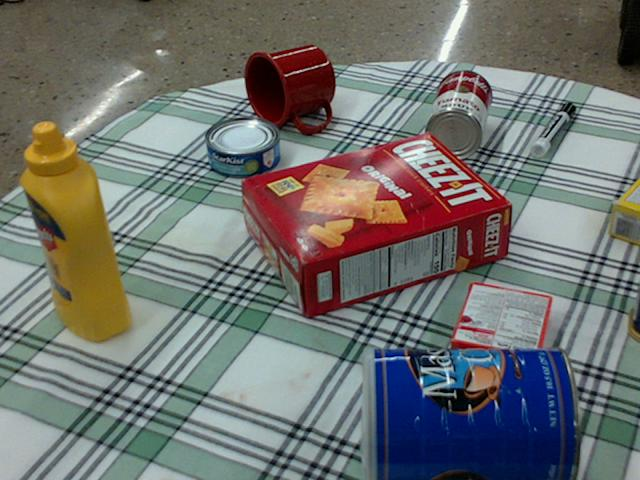cracker_box: (241, 134, 509, 318)
gelatin_box: (450, 281, 551, 376)
large_marker: (529, 103, 574, 155)
master_chef_can: (360, 344, 583, 479)
mug: (242, 46, 334, 131)
mustard_bottle: (19, 122, 130, 341)
potted_meat_can: (627, 268, 639, 340)
sugar_box: (610, 180, 639, 245)
tomato_soup_can: (423, 69, 491, 158)
tuna_fish_can: (203, 117, 279, 176)
